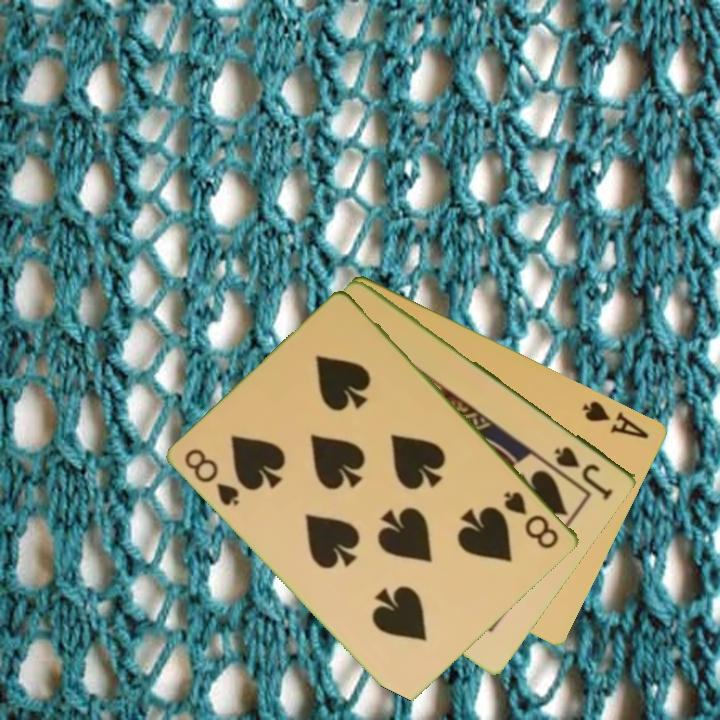8s: (501, 487, 563, 552), (181, 444, 243, 509)
As: (579, 396, 653, 442)
Js: (551, 442, 617, 501)
